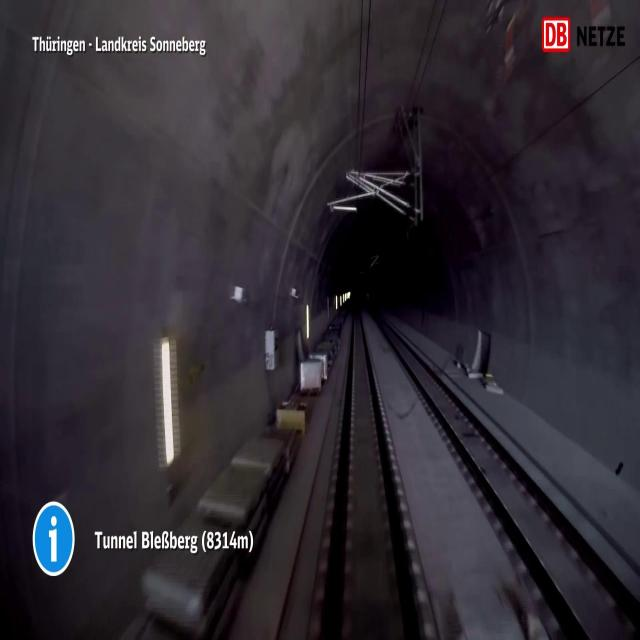rail-track: (365, 302, 628, 639), (334, 298, 410, 639)
